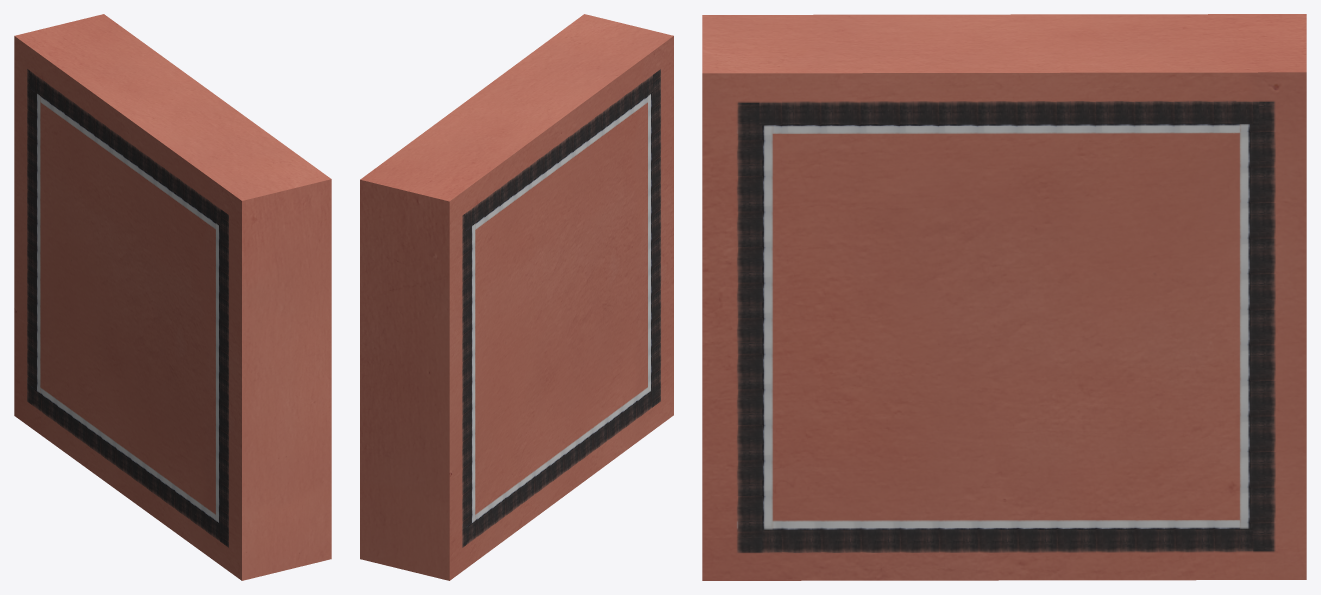
File: SM_W_Pink02.fbx
3 views of the same model, side by side, from view 1: azimuth 30°, elevation 25°; view 2: azimuth 150°, elevation 25°; view 3: azimuth 270°, elevation 25° (orthographic). The views are drawn at different scales.
Parts seen in each view (by area): view 1: SM_W_Pink02; view 2: SM_W_Pink02; view 3: SM_W_Pink02.
Part boxes in pixels (x1,y1,x2,y2): SM_W_Pink02: (14,14,331,580); SM_W_Pink02: (360,14,673,580); SM_W_Pink02: (702,14,1306,580).
Bounding box in the file's own units: 15.62 × 67.11 × 62.21.
Materials: 1 (1 with a texture image).
